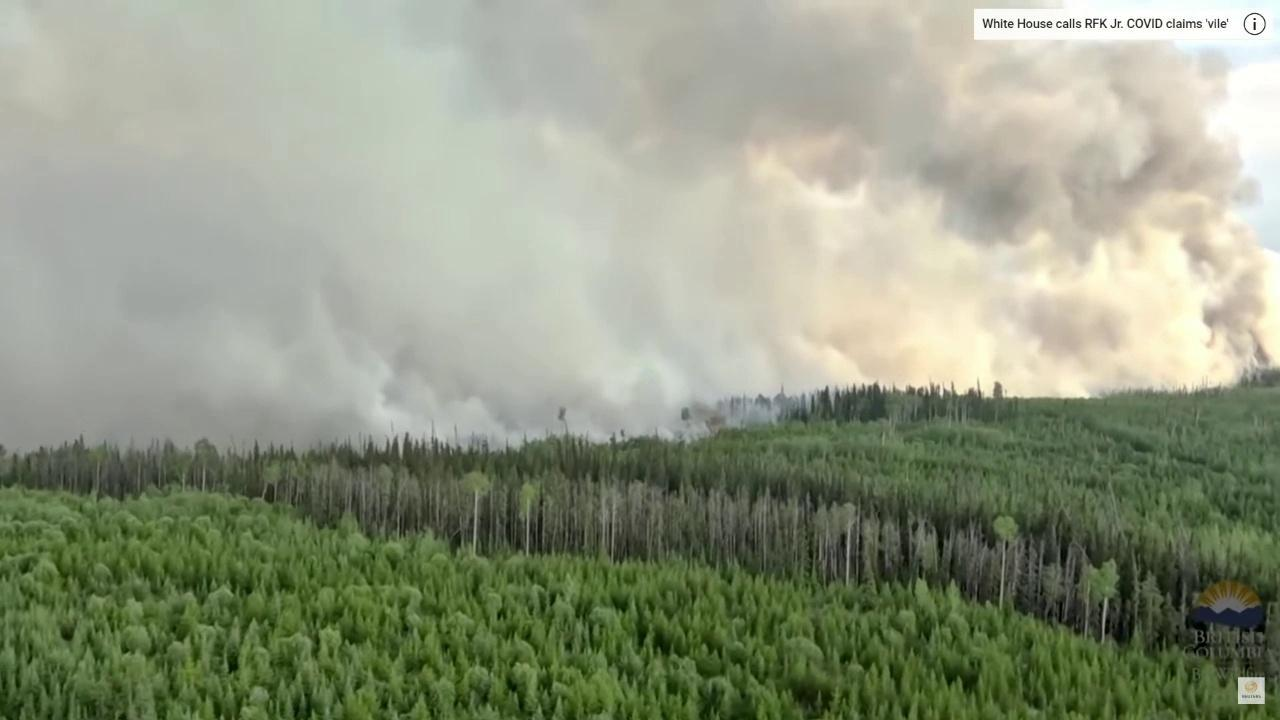smoke: (0, 0, 1280, 457)
